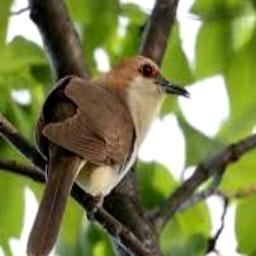Cuckoo: (27, 53, 189, 256)
